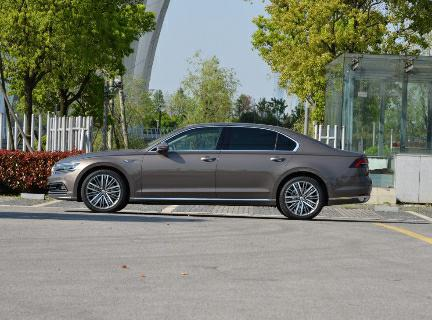大众-途昂: (47, 115, 380, 226)
